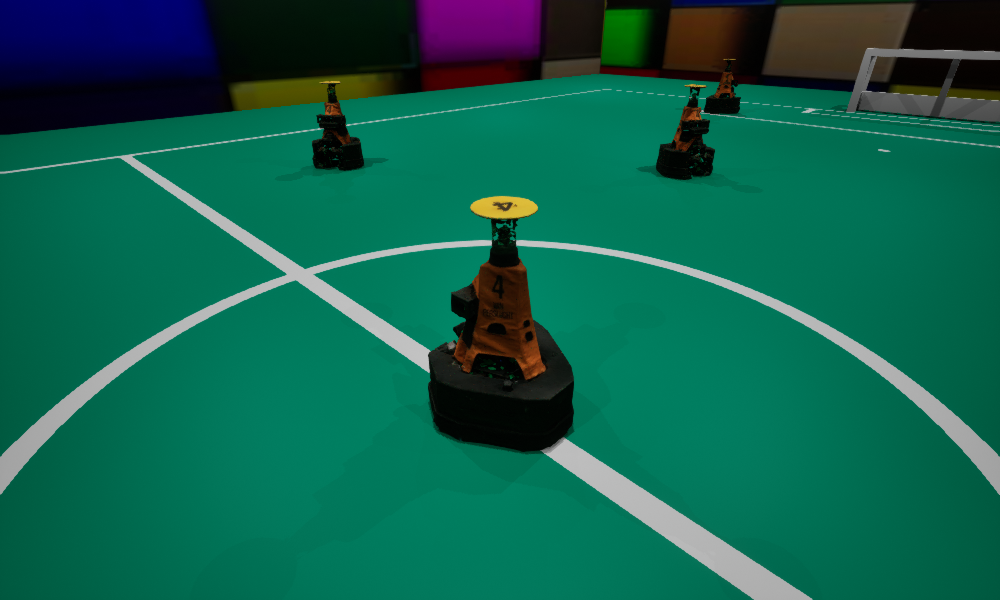0 orange robot TechUnited: (428, 196, 573, 451), (656, 84, 714, 179), (312, 81, 363, 169), (704, 59, 740, 113)
